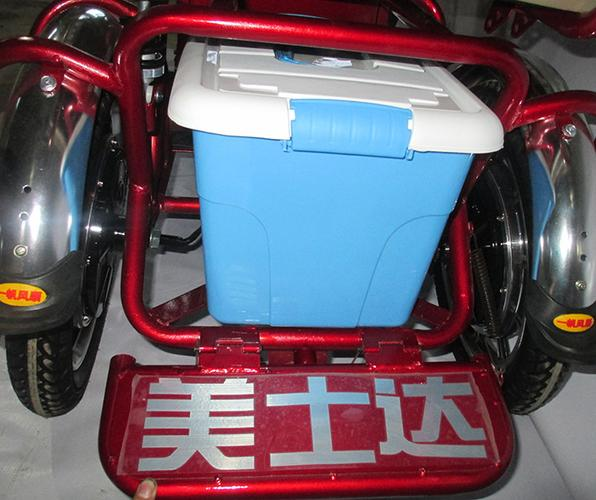empty: (6, 9, 572, 476)
